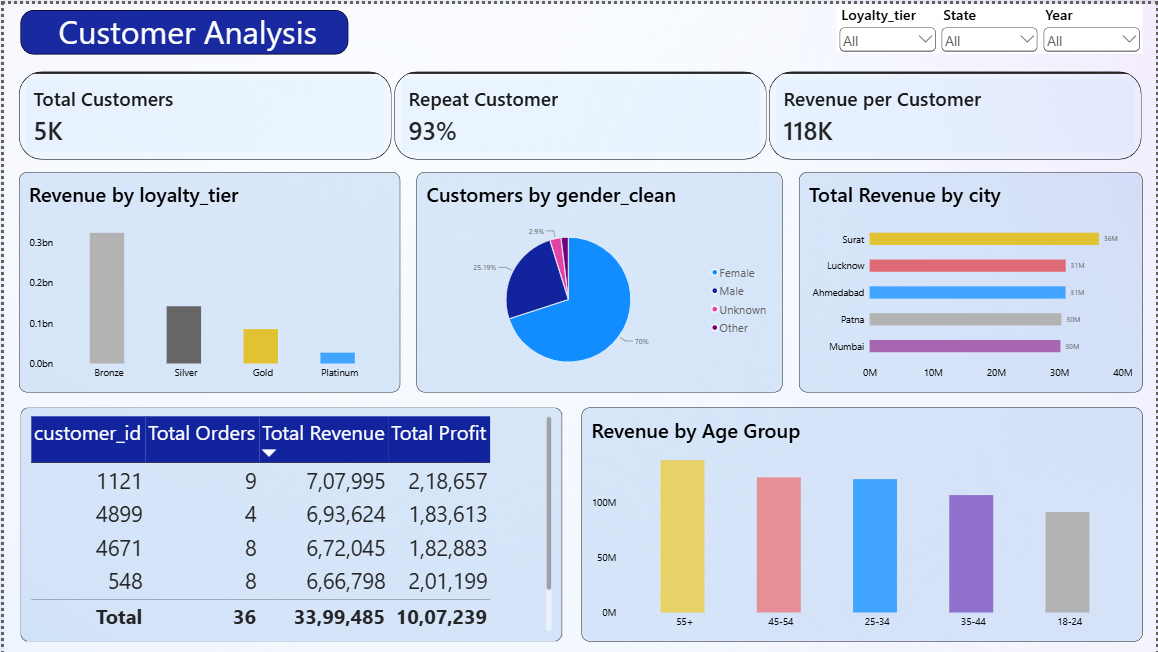

The page's visual inventory and layout, read from the dashboard file:
{"tool":"powerbi","page":{"name":"Customer Analysis","canvas":[1920,1080],"ordinal":1},"visuals":[{"type":"shape","box":[28.6,9.5,546.4,74],"z":0},{"type":"cardVisual","fields":{"Data":["Brands.Total Customers","Brands.Repeat Customer %","Brands.Revenue per Customer"]},"box":[25,112.5,1872.5,147.5],"z":1000},{"type":"textbox","box":[71.4,9.8,467.5,73.8],"z":2000},{"type":"slicer","fields":{"Values":["Date.Year"]},"box":[1727.5,0,170,82.5],"z":3000},{"type":"slicer","title":"State","fields":{"Values":["Clean_customers.state"]},"box":[1557.5,0,169.8,83.7],"z":4000},{"type":"slicer","fields":{"Values":["Clean_customers.loyalty_tier"]},"box":[1387.5,0,170,82.5],"z":5000},{"type":"clusteredColumnChart","title":"Revenue by loyalty_tier","fields":{"Category":["Clean_customers.loyalty_tier"],"Y":["_Measures.Total Revenue"]},"box":[25,280,635,367.5],"z":6000},{"type":"pieChart","title":"Customers by gender_clean","fields":{"Category":["Clean_customers.gender_clean"],"Y":["Brands.Total Customers"]},"box":[687.5,280,610,367.5],"z":7000},{"type":"clusteredBarChart","fields":{"Category":["Clean_customers.city"],"Y":["_Measures.Total Revenue"]},"box":[1325,280,572.5,367.5],"z":8000},{"type":"tableEx","fields":{"Values":["Clean_customers.customer_id","_Measures.Total Orders","_Measures.Total Revenue","_Measures.Total Profit"]},"box":[27.5,672.5,902.5,390],"z":9000},{"type":"clusteredColumnChart","title":"Revenue by Age Group","fields":{"Category":["Clean_customers.Age Group"],"Y":["_Measures.Total Revenue"]},"box":[962.5,672.5,935,390],"z":10000}]}

Visuals, with their boxes in screenshot pixels (x1, y1, x2, y2), scaled from the page's 1920x1080 canvas onto the 1158x652 screenshot:
shape: 17 6 347 50
cardVisual - Brands.Total Customers x Brands.Repeat Customer %: 15 68 1144 157
textbox: 43 6 325 50
slicer - Date.Year: 1042 0 1144 50
"State" slicer: 939 0 1042 51
slicer - Clean_customers.loyalty_tier: 837 0 939 50
"Revenue by loyalty_tier" clusteredColumnChart: 15 169 398 391
"Customers by gender_clean" pieChart: 415 169 783 391
clusteredBarChart - Clean_customers.city x _Measures.Total Revenue: 799 169 1144 391
tableEx - Clean_customers.customer_id x _Measures.Total Orders: 17 406 561 641
"Revenue by Age Group" clusteredColumnChart: 581 406 1144 641
